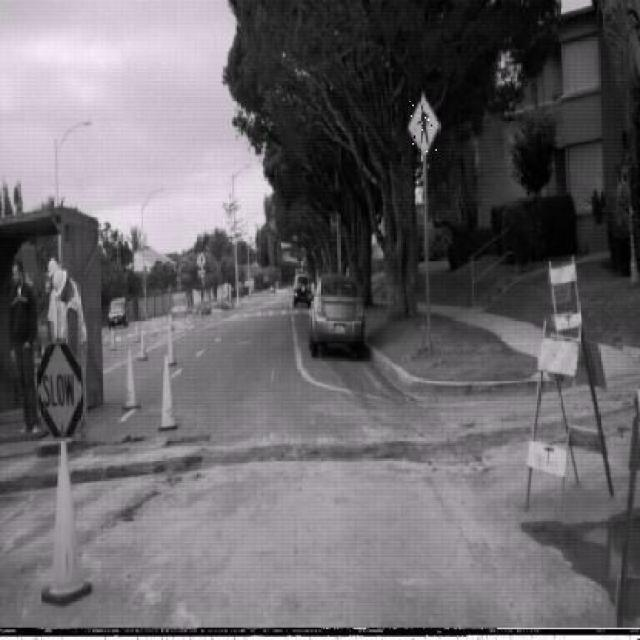pedestrianCrossing: (408, 92, 440, 160), (194, 251, 205, 271)
